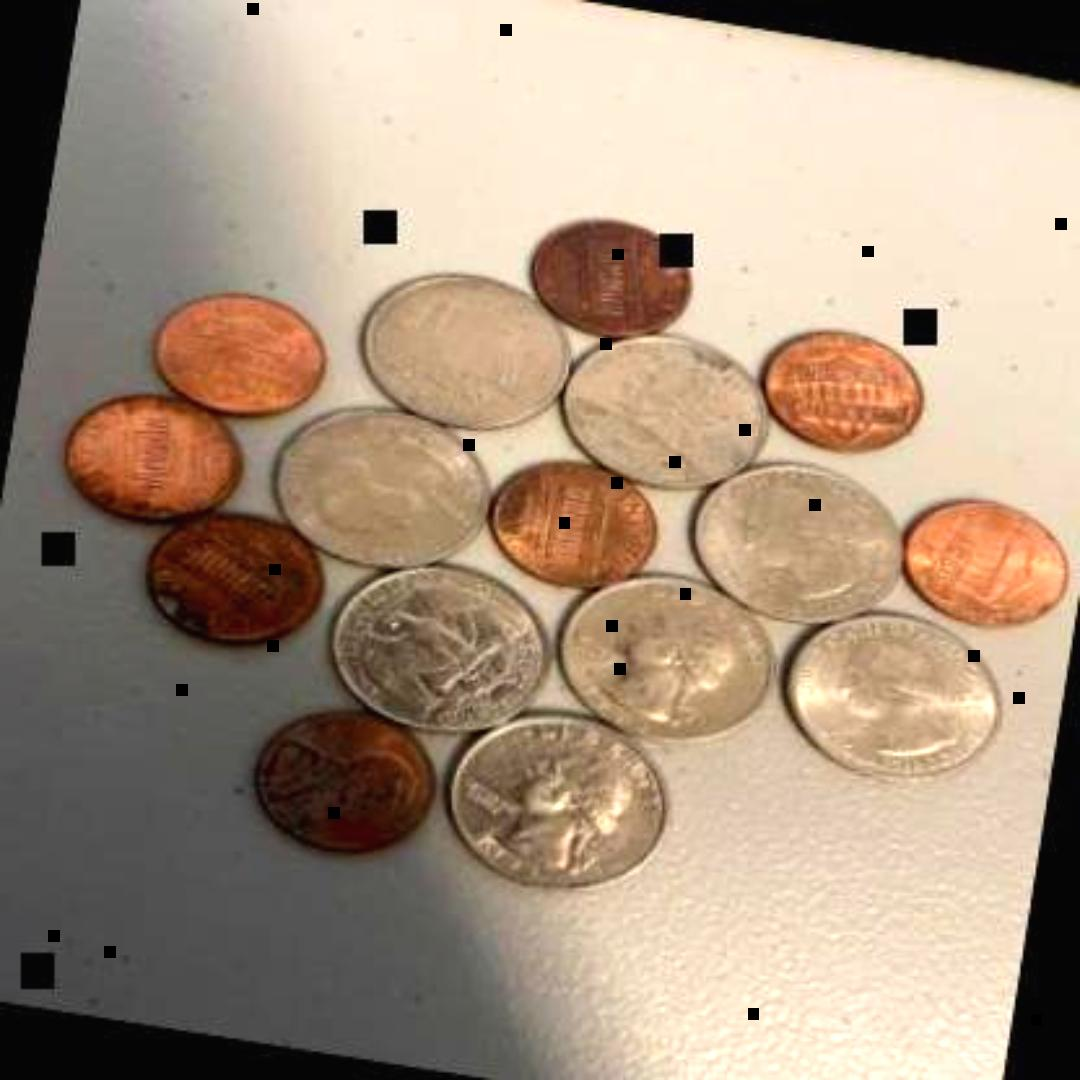Nickel: (427, 692, 681, 902), (544, 554, 794, 758), (767, 594, 1013, 794), (319, 546, 560, 744), (343, 252, 579, 454), (260, 389, 500, 586), (678, 440, 914, 638), (546, 313, 786, 502)
Penny: (239, 691, 449, 864), (126, 491, 338, 659), (883, 478, 1077, 640), (139, 278, 338, 428), (52, 378, 246, 528), (473, 447, 667, 597), (741, 312, 930, 462), (517, 202, 701, 348)
